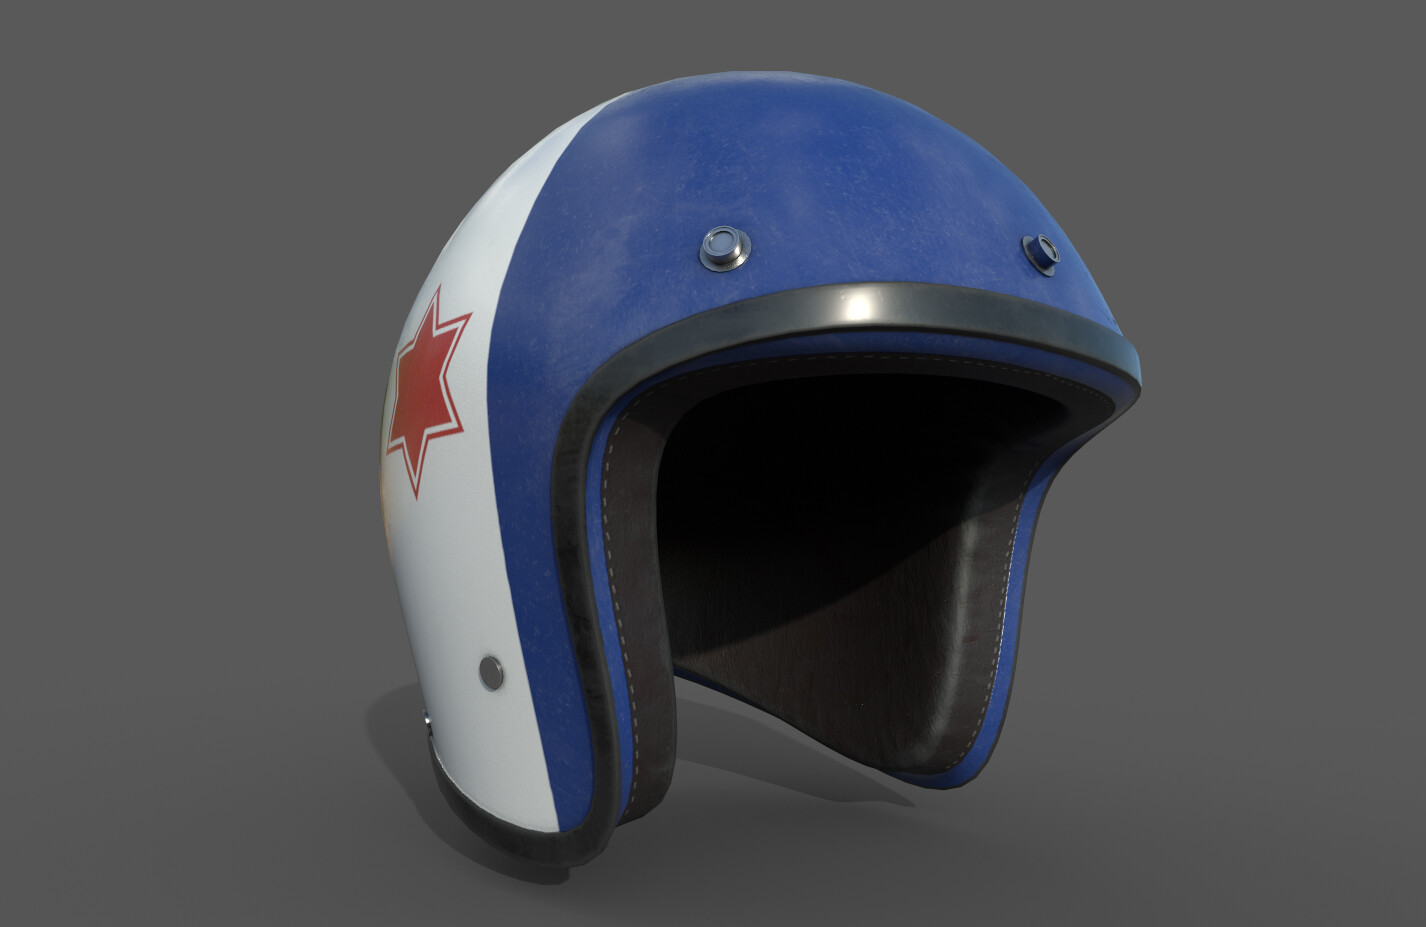with_helmet: (385, 67, 1151, 854)
